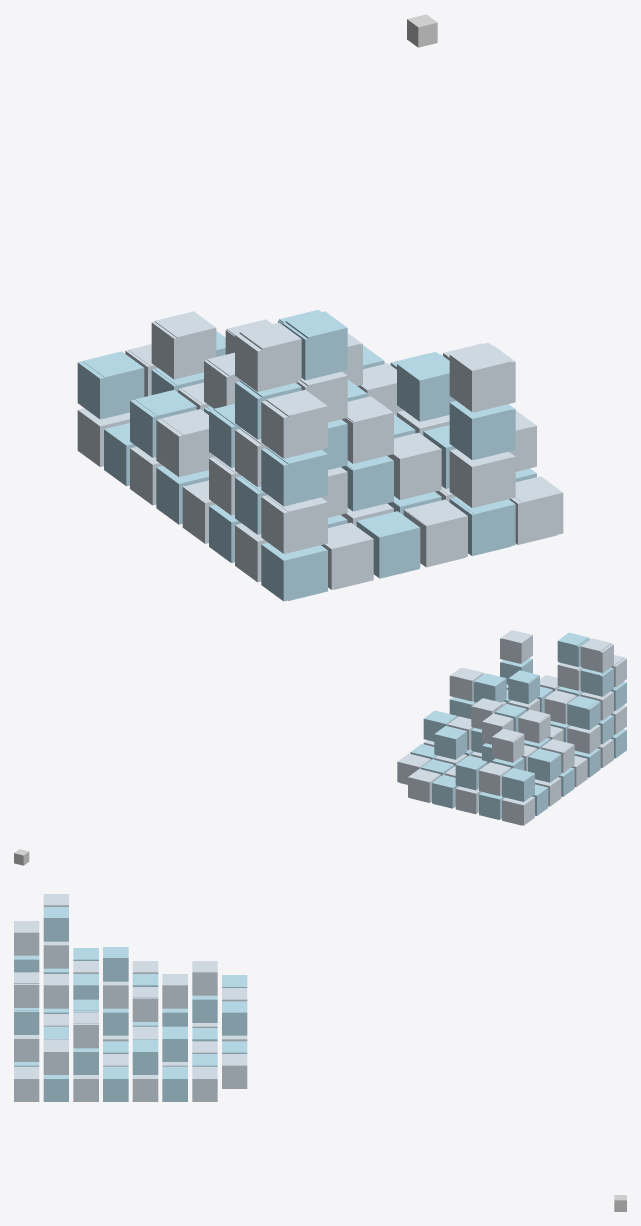
Rendered from sodium_chloride.glb.
The picture shows the model from 3 angles, top to bottom: view 1: azimuth 30°, elevation 25°; view 2: azimuth 150°, elevation 25°; view 3: azimuth 270°, elevation 25°; orthographic projection. The views are drawn at different scales.
Parts seen in each view (by area): view 1: Cube.099, Cube.001, Cube; view 2: Cube.001, Cube.099; view 3: Cube.001, Cube.099.
Part boxes in pixels (x1=…): Cube.099: x1=82, y1=309, x2=557, y2=600; Cube.001: x1=77, y1=320, x2=563, y2=601; Cube: x1=407, y1=14, x2=437, y2=47; Cube.001: x1=397, y1=630, x2=626, y2=825; Cube.099: x1=400, y1=630, x2=624, y2=825; Cube.001: x1=14, y1=894, x2=247, y2=1101; Cube.099: x1=14, y1=894, x2=247, y2=1067.
Size of the model in its own units: 5.27 by 1.72 by 7.23.
